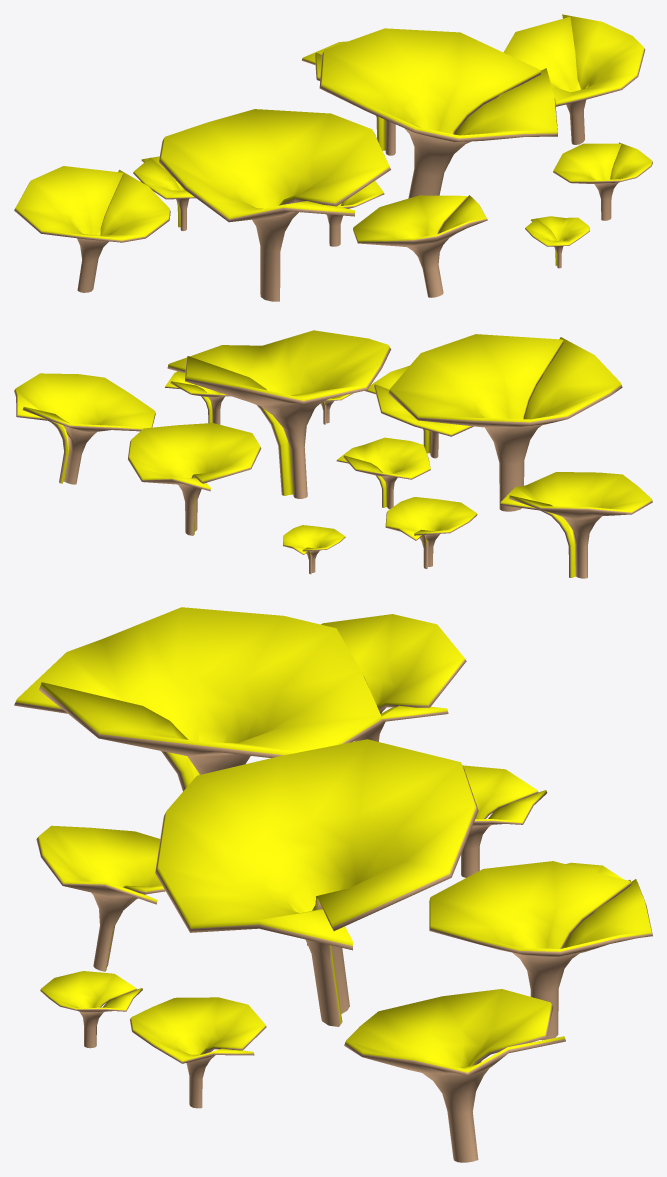
Rendered from decoMushroom.fbx.
The picture shows the model from 3 angles, top to bottom: view 1: azimuth 30°, elevation 25°; view 2: azimuth 150°, elevation 25°; view 3: azimuth 270°, elevation 25°; orthographic projection. The views are drawn at different scales.
Visible parts, largest first — view 1: deco_mushroom; view 2: deco_mushroom; view 3: deco_mushroom.
Boxes of the visible parts, x1,y1,x2,y2 form: deco_mushroom: (14,14,652,301); deco_mushroom: (14,330,652,578); deco_mushroom: (14,607,652,1162).
Bounding box in the file's own units: 365 × 218 × 84.56.
